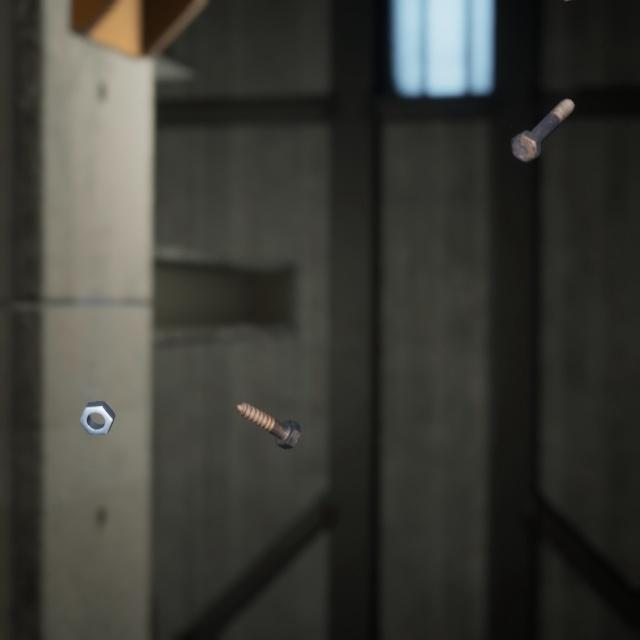bolt: (506, 82, 579, 154), (231, 376, 305, 433)
nut: (74, 376, 120, 420)
